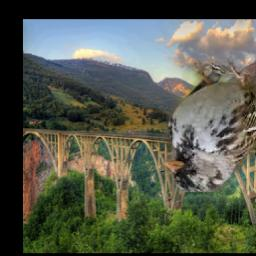Sparrow: (163, 57, 256, 192)
